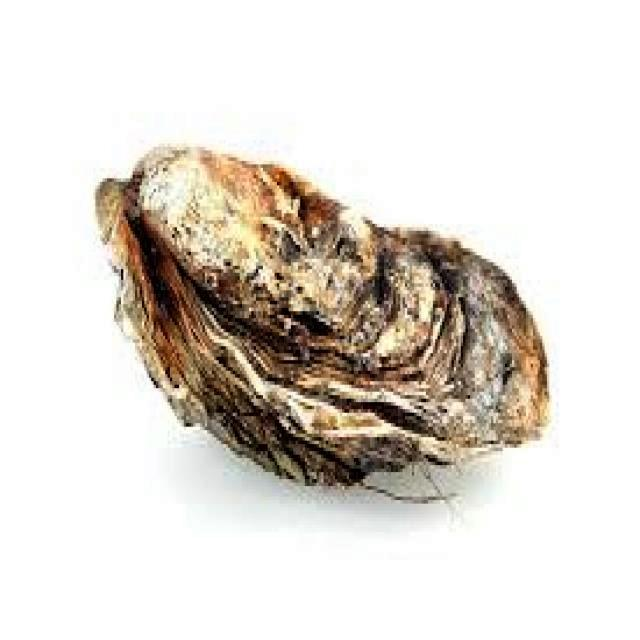Oyster-Closed: (99, 148, 549, 498)
